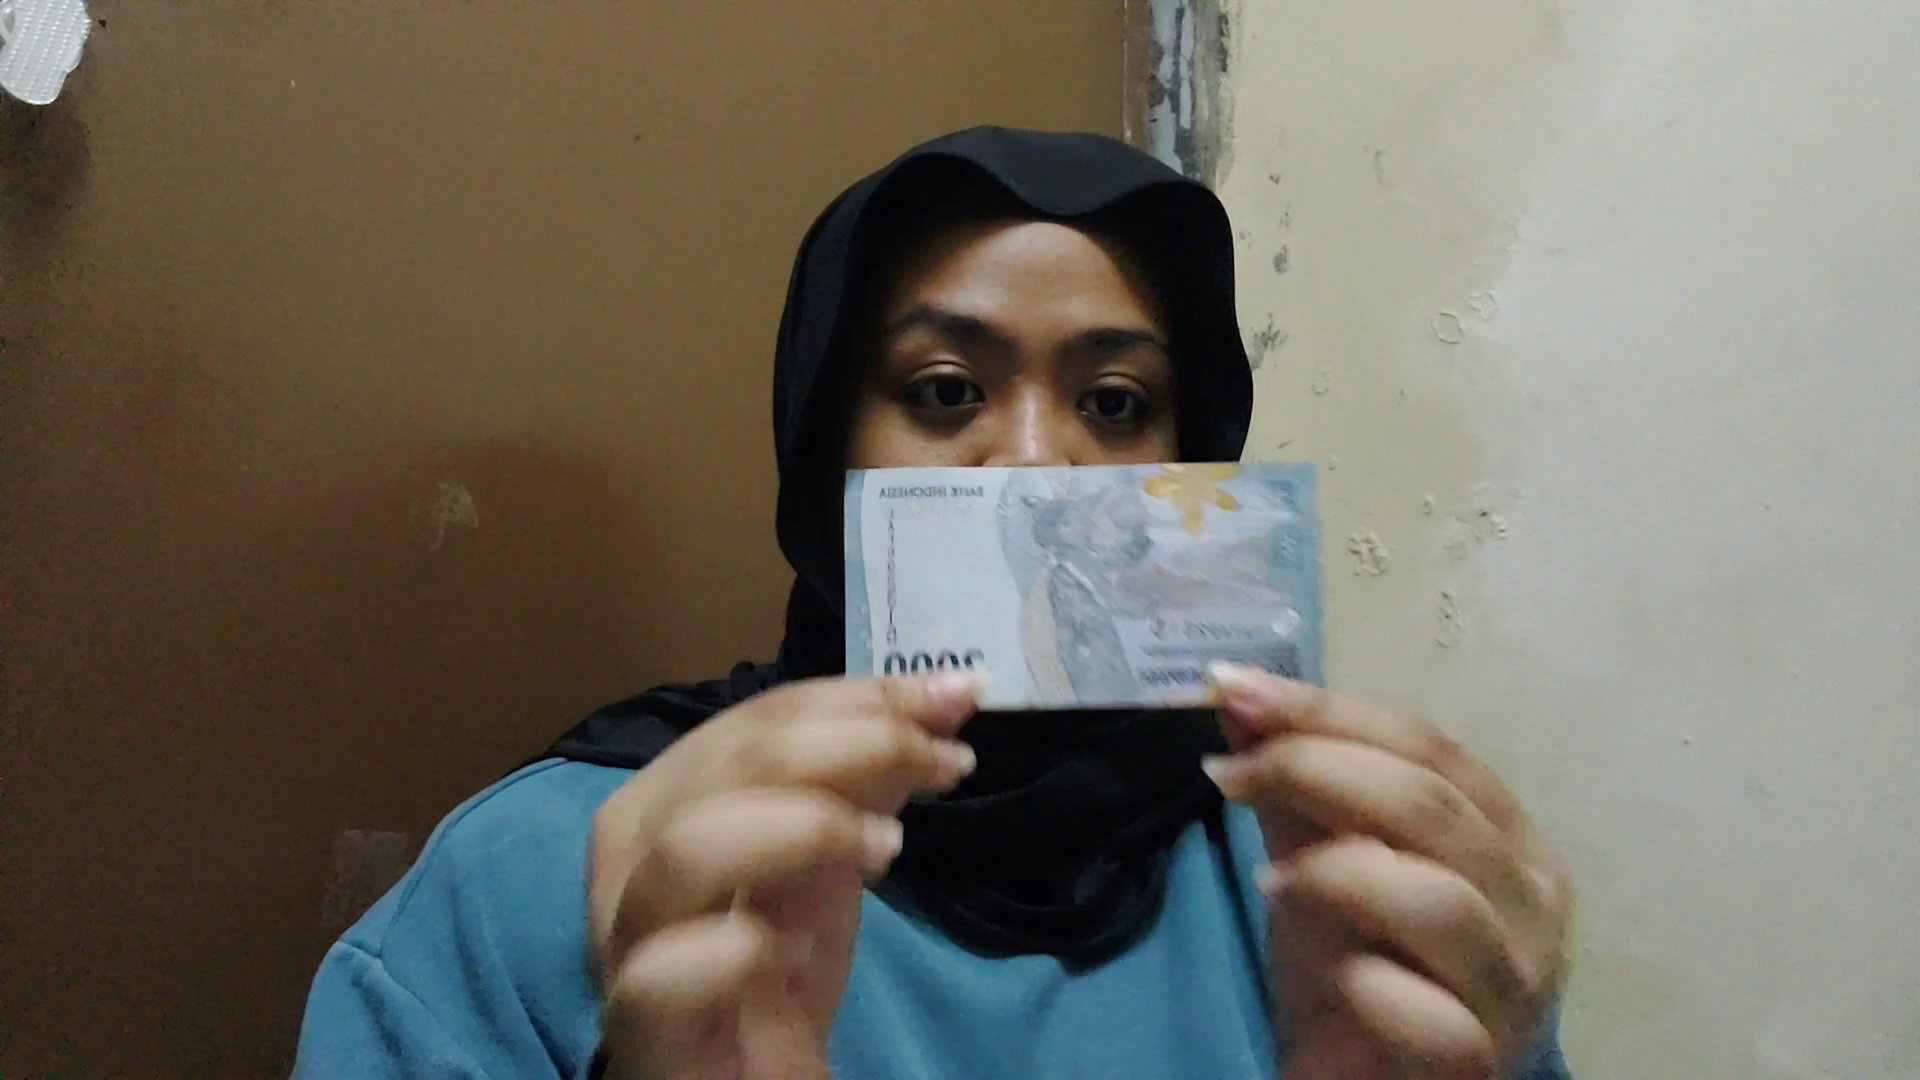2k: (847, 458, 1336, 711)
